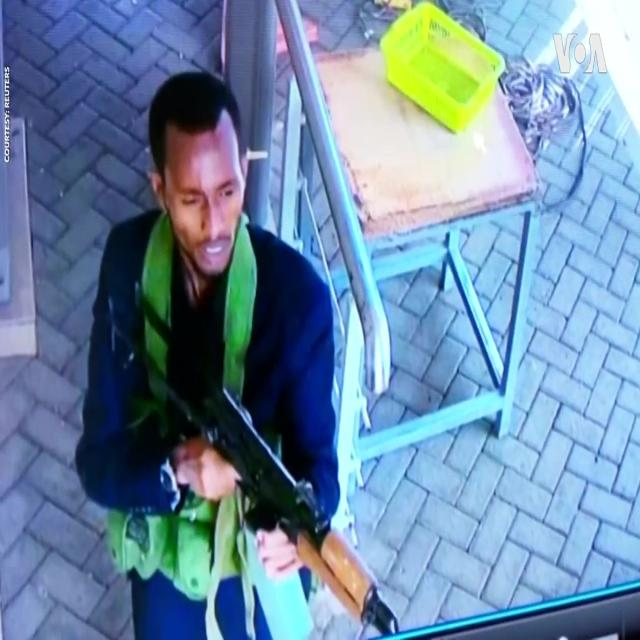Weapon: (105, 254, 419, 640)
